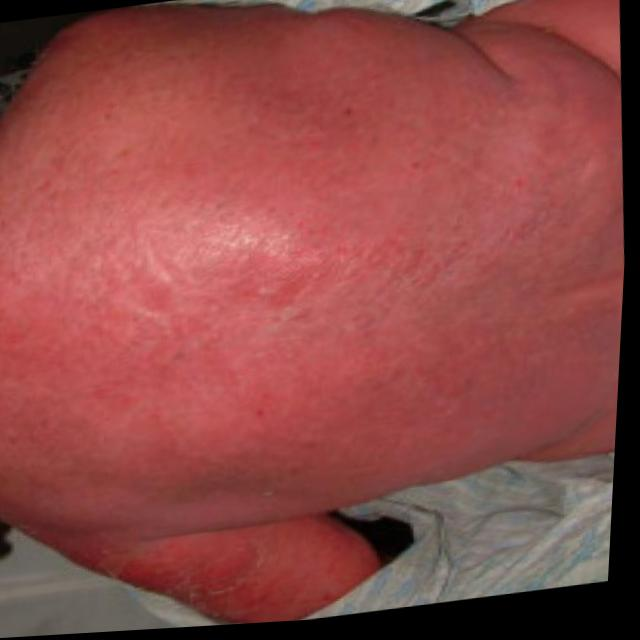Eczema: (38, 47, 525, 618)
